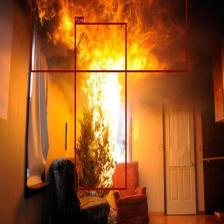fire: (30, 0, 187, 72), (74, 22, 127, 190)
